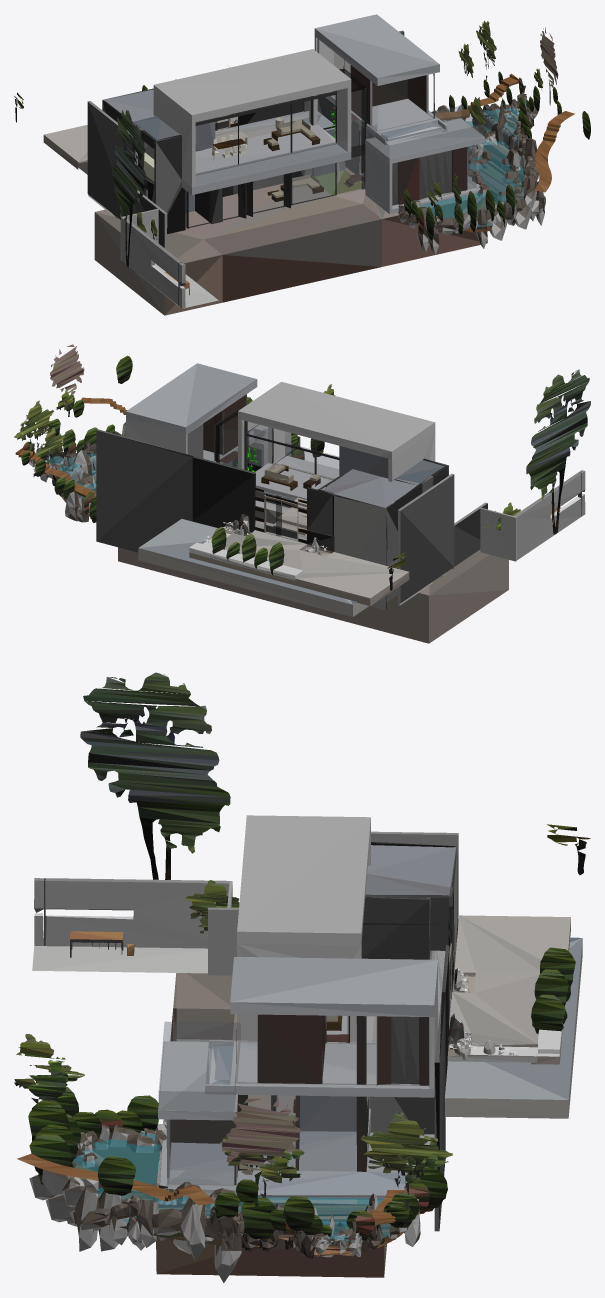
Rendered from nha-2-hoa-vien.glb.
The picture shows the model from 3 angles, top to bottom: view 1: azimuth 30°, elevation 25°; view 2: azimuth 150°, elevation 25°; view 3: azimuth 270°, elevation 25°; orthographic projection. The views are drawn at different scales.
Parts seen in each view (by area): view 1: Nha hoa vien (villa with garden); view 2: Nha hoa vien (villa with garden); view 3: Nha hoa vien (villa with garden).
Part boxes in pixels (x1,y1,x2,y2): Nha hoa vien (villa with garden): (14,14,590,315); Nha hoa vien (villa with garden): (14,344,590,643); Nha hoa vien (villa with garden): (14,672,590,1282).
Size of the model in its own units: 9 by 4.02 by 6.27.
